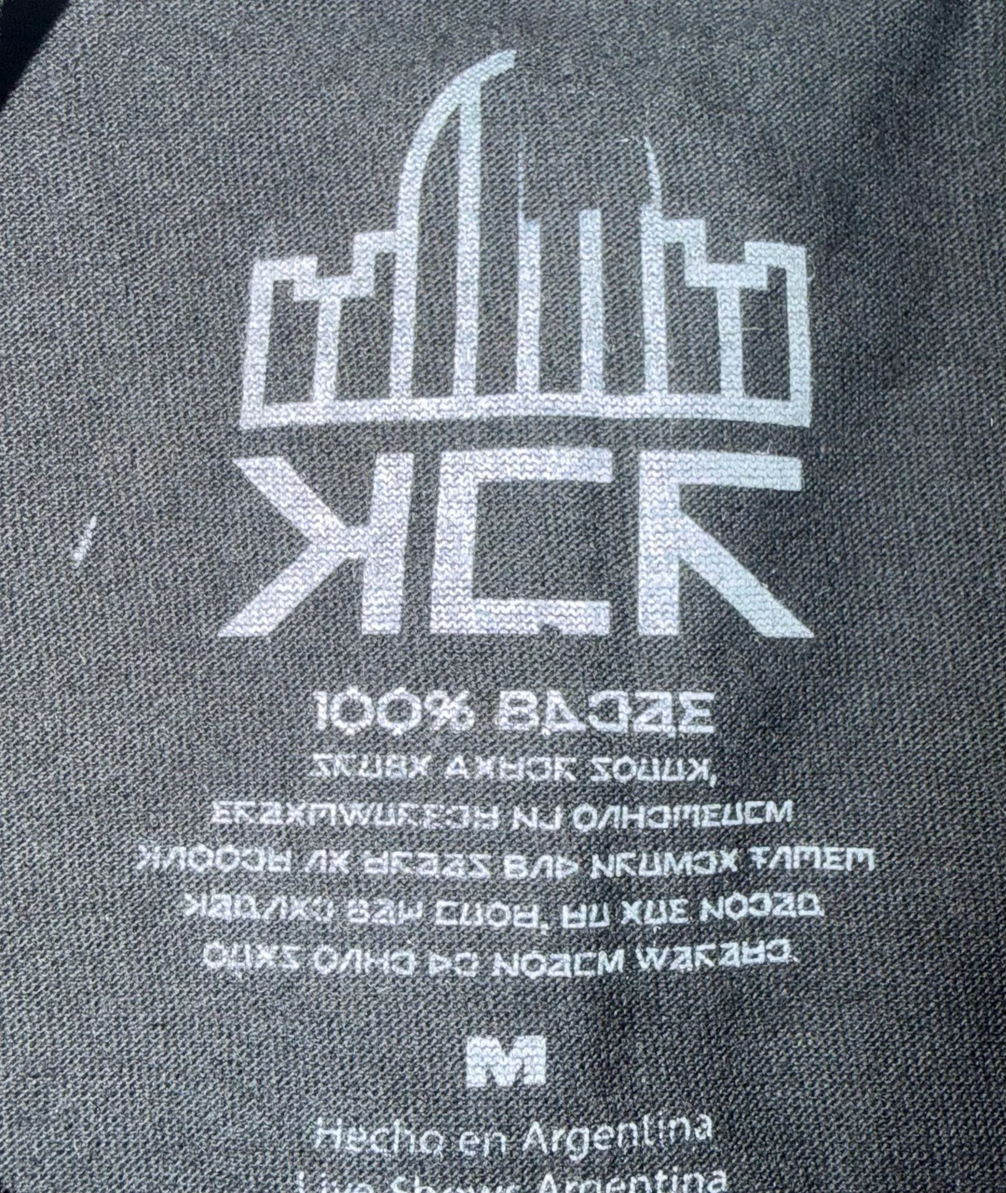0: (372, 683, 426, 740), (331, 681, 376, 742)
1: (299, 674, 333, 740)
A: (626, 684, 680, 741), (254, 796, 286, 832), (206, 890, 236, 926), (546, 949, 576, 983), (371, 896, 399, 931), (415, 849, 443, 882), (440, 851, 468, 884), (770, 887, 798, 920), (668, 945, 696, 975), (717, 940, 742, 971)
B: (490, 948, 521, 982), (698, 893, 727, 926), (589, 851, 617, 884), (509, 804, 539, 833)
C: (414, 433, 628, 653), (430, 897, 461, 933), (573, 949, 600, 981), (743, 799, 767, 828)
CH: (794, 888, 828, 920), (231, 891, 261, 925)
D: (468, 799, 503, 836), (509, 900, 543, 933), (558, 901, 590, 932), (498, 753, 529, 784), (362, 846, 391, 879), (266, 844, 294, 877), (740, 939, 766, 970)
E: (582, 683, 635, 740), (440, 798, 474, 836), (387, 944, 419, 980), (453, 948, 484, 982), (308, 892, 338, 927), (765, 936, 796, 969), (525, 753, 556, 784), (746, 888, 773, 921), (691, 848, 719, 879), (241, 841, 267, 874), (645, 802, 672, 833)
F: (747, 844, 772, 874)
G: (303, 749, 336, 779), (276, 941, 305, 974), (466, 850, 494, 883), (587, 753, 615, 784)
H: (534, 686, 587, 742)
I: (260, 889, 290, 924), (338, 943, 366, 979), (303, 846, 331, 879), (161, 843, 190, 874), (527, 852, 555, 884), (596, 803, 623, 834), (768, 844, 796, 873)
K: (598, 947, 627, 979), (664, 850, 693, 881), (766, 798, 794, 828)
L: (310, 940, 341, 975), (519, 947, 550, 981), (199, 939, 230, 972), (215, 842, 244, 877), (482, 898, 511, 933), (187, 839, 216, 873), (722, 890, 751, 923), (611, 756, 639, 787), (572, 802, 600, 833)
M: (205, 436, 420, 655), (180, 888, 212, 920), (135, 842, 163, 872), (689, 756, 715, 786)
N: (280, 796, 311, 832), (254, 940, 283, 974), (406, 749, 437, 780), (469, 753, 500, 784), (284, 893, 313, 926), (715, 847, 744, 878), (328, 848, 356, 880), (617, 898, 645, 929)
O: (456, 898, 487, 932), (227, 939, 256, 973), (369, 797, 397, 831), (638, 848, 665, 881), (585, 900, 614, 930), (662, 755, 690, 786), (358, 750, 386, 780), (637, 753, 664, 784), (642, 898, 669, 929), (720, 799, 744, 828)
P: (335, 795, 371, 831), (634, 944, 668, 976)
R: (623, 437, 837, 657), (227, 796, 259, 832), (550, 754, 581, 786), (327, 752, 360, 782), (392, 800, 421, 833), (388, 846, 417, 879), (612, 850, 639, 882), (692, 942, 720, 972)
S: (844, 843, 878, 877), (309, 794, 340, 831), (672, 801, 702, 832), (791, 842, 822, 872)
SH: (395, 895, 427, 930)
T: (668, 686, 722, 742), (205, 793, 236, 830), (417, 800, 445, 833), (819, 843, 847, 873), (666, 896, 692, 927), (699, 801, 724, 830)
TH: (423, 947, 454, 981), (553, 851, 581, 884)
U: (442, 752, 473, 783)
V: (362, 946, 393, 981), (620, 803, 648, 834)
W: (489, 683, 543, 740), (342, 895, 372, 929), (501, 851, 529, 884), (382, 750, 411, 781)
Y: (537, 804, 567, 833)
